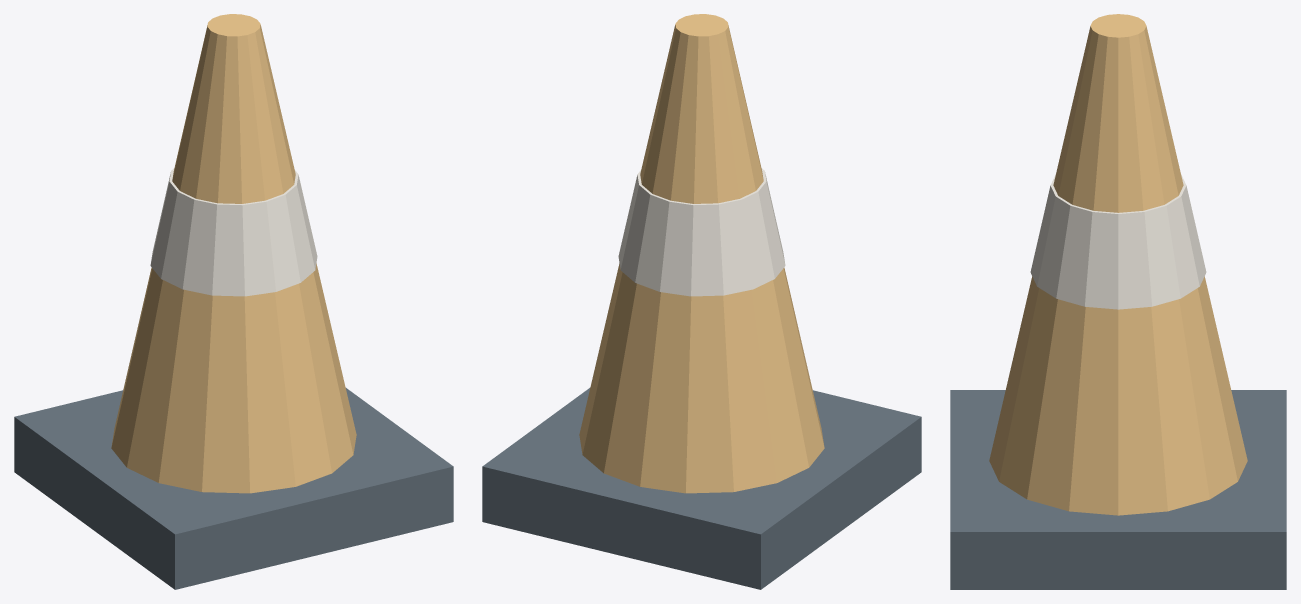
File: traffic_cone.glb
3 renders of one model, left to right at view 1: azimuth 30°, elevation 25°; view 2: azimuth 150°, elevation 25°; view 3: azimuth 270°, elevation 25°, orthographic. The views are drawn at different scales.
Parts seen in each view (by area): view 1: traffic_cone_001, traffic_cone_000, traffic_cone_002; view 2: traffic_cone_001, traffic_cone_000, traffic_cone_002; view 3: traffic_cone_001, traffic_cone_000, traffic_cone_002.
Part boxes in pixels (bbox=[...]): traffic_cone_001: bbox=[111, 14, 356, 493]; traffic_cone_000: bbox=[14, 388, 453, 589]; traffic_cone_002: bbox=[150, 168, 317, 296]; traffic_cone_001: bbox=[579, 14, 824, 493]; traffic_cone_000: bbox=[482, 388, 921, 589]; traffic_cone_002: bbox=[618, 168, 785, 296]; traffic_cone_001: bbox=[989, 14, 1247, 515]; traffic_cone_000: bbox=[950, 390, 1286, 589]; traffic_cone_002: bbox=[1030, 174, 1206, 309].
Bounding box in the file's own units: 0.42 × 0.68 × 0.42.
